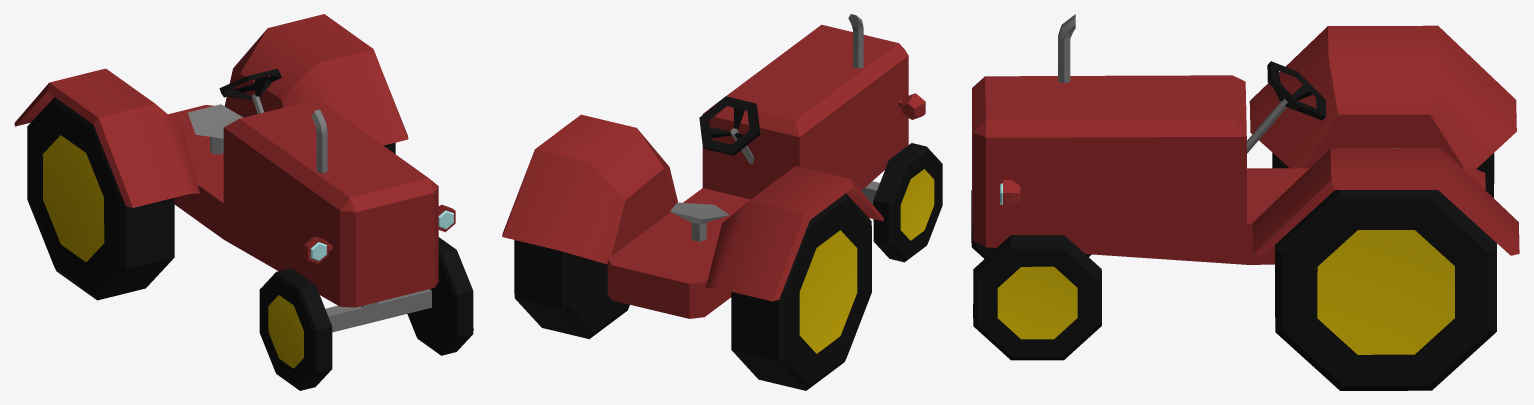
File: Tractor.fbx
3 views of the same model, side by side, from view 1: azimuth 30°, elevation 25°; view 2: azimuth 150°, elevation 25°; view 3: azimuth 270°, elevation 25° (orthographic). The views are drawn at different scales.
Parts seen in each view (by area): view 1: pCylinder15; view 2: pCylinder15; view 3: pCylinder15.
Part boxes in pixels (x1,y1,x2,y2): pCylinder15: (14, 14, 473, 390); pCylinder15: (502, 14, 942, 390); pCylinder15: (971, 14, 1519, 390).
Size of the model in its own units: 180 by 150 by 263.
